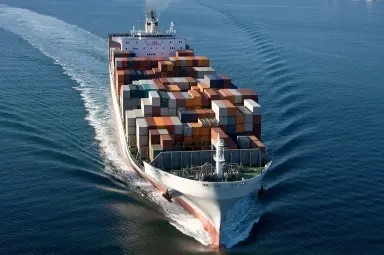Cargoship: (102, 10, 274, 251)
